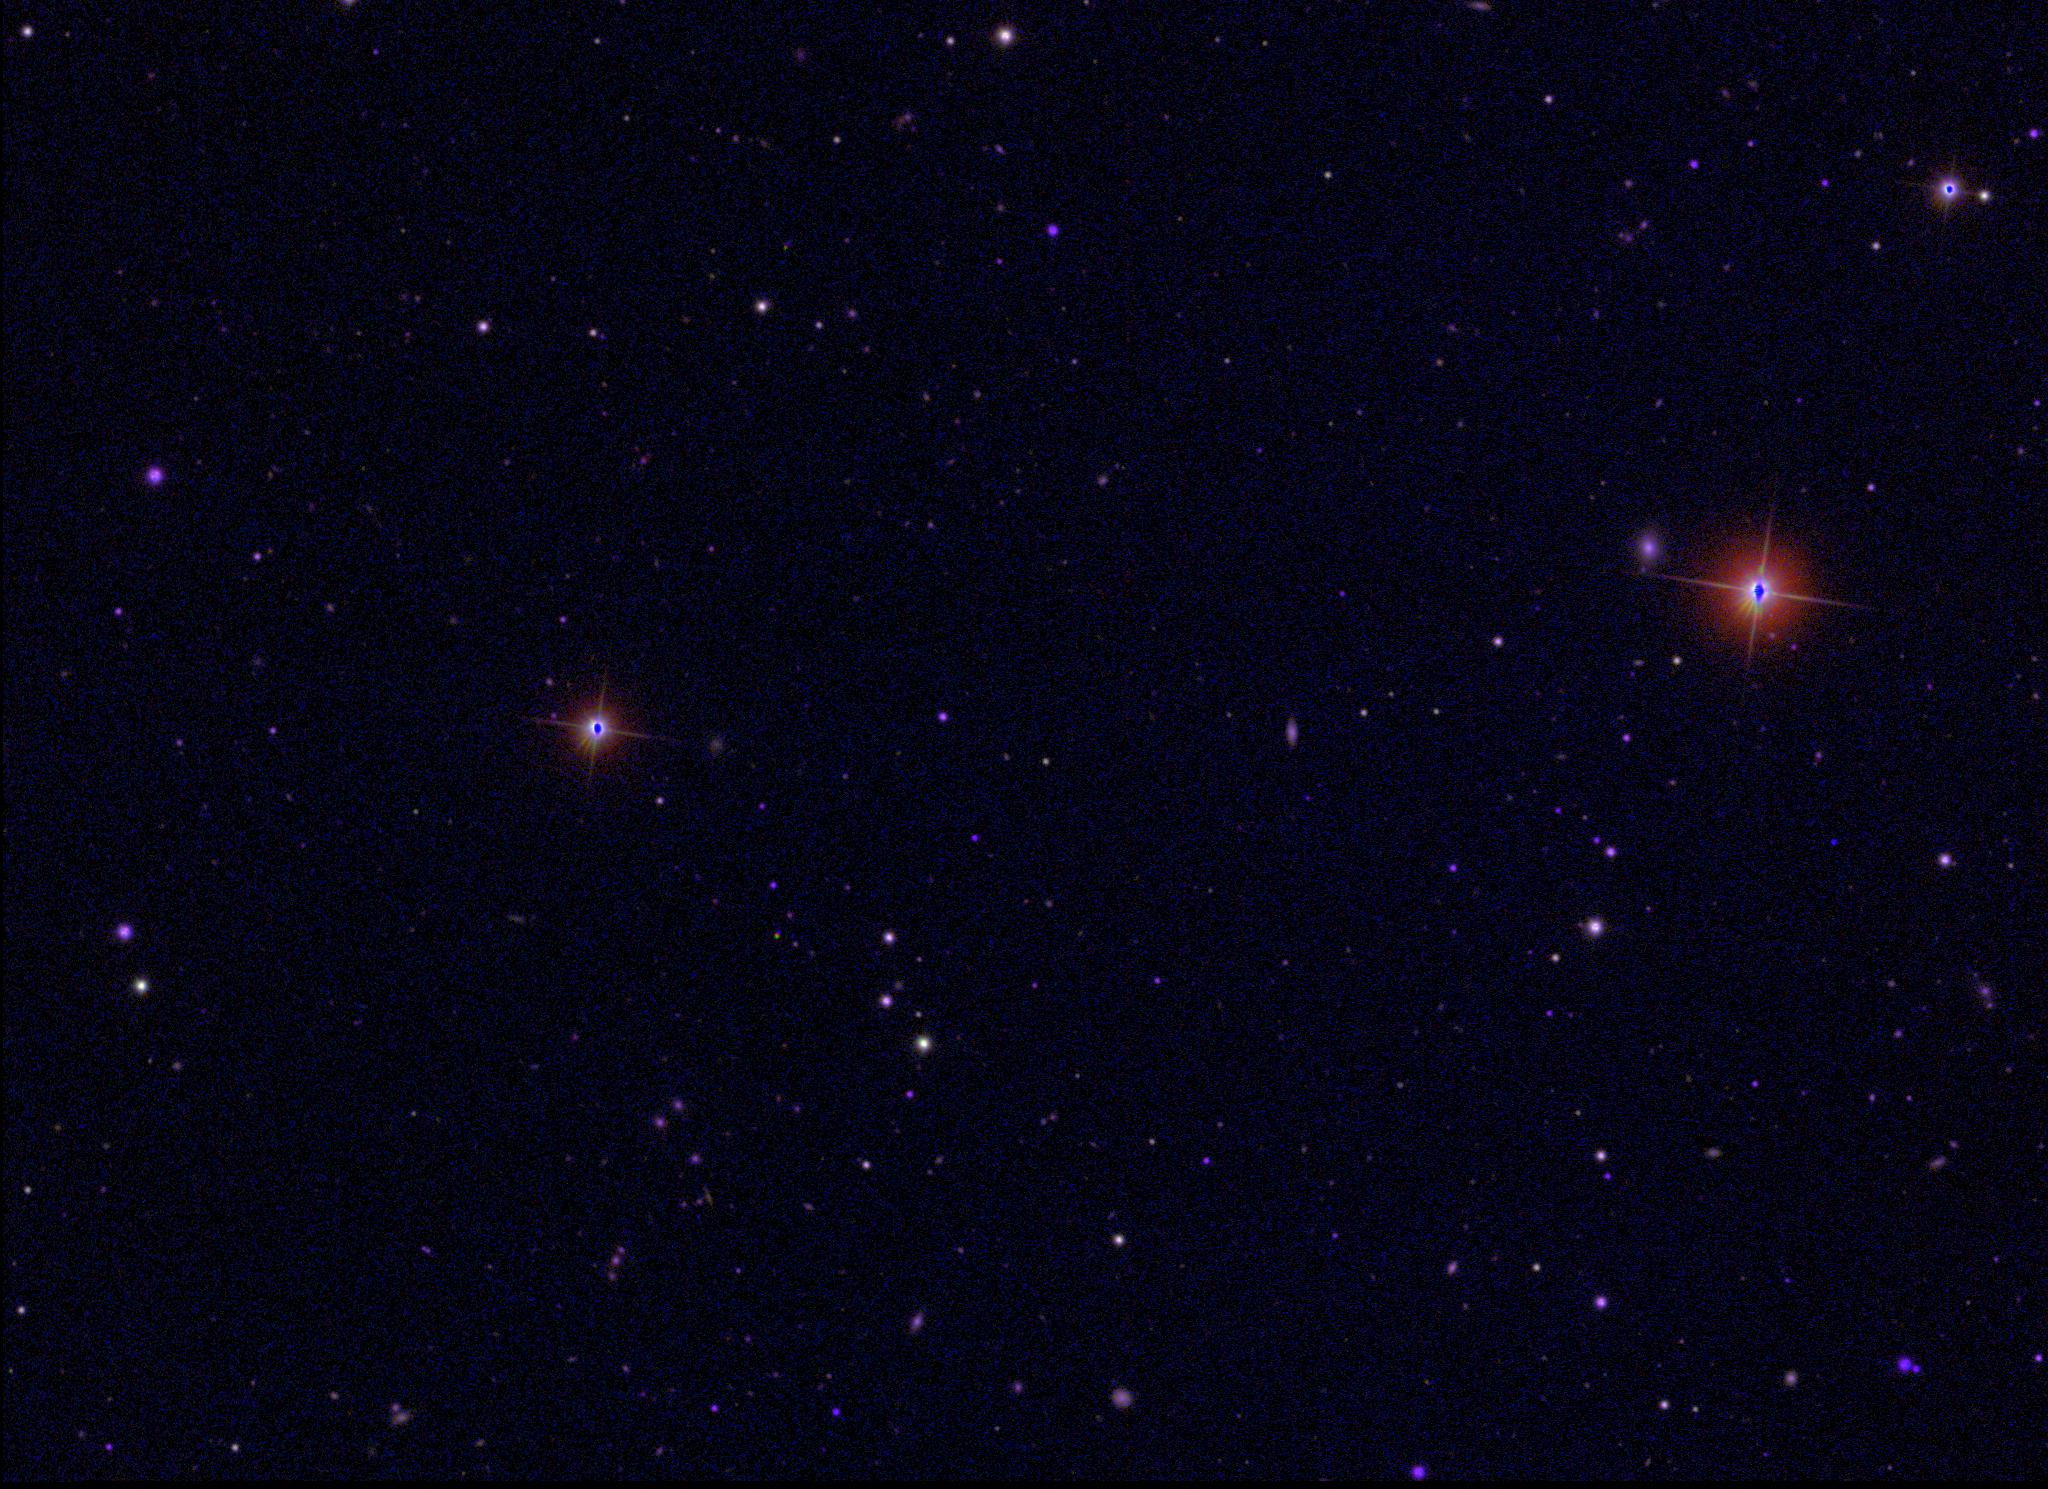L: (1827, 835, 1841, 849)
